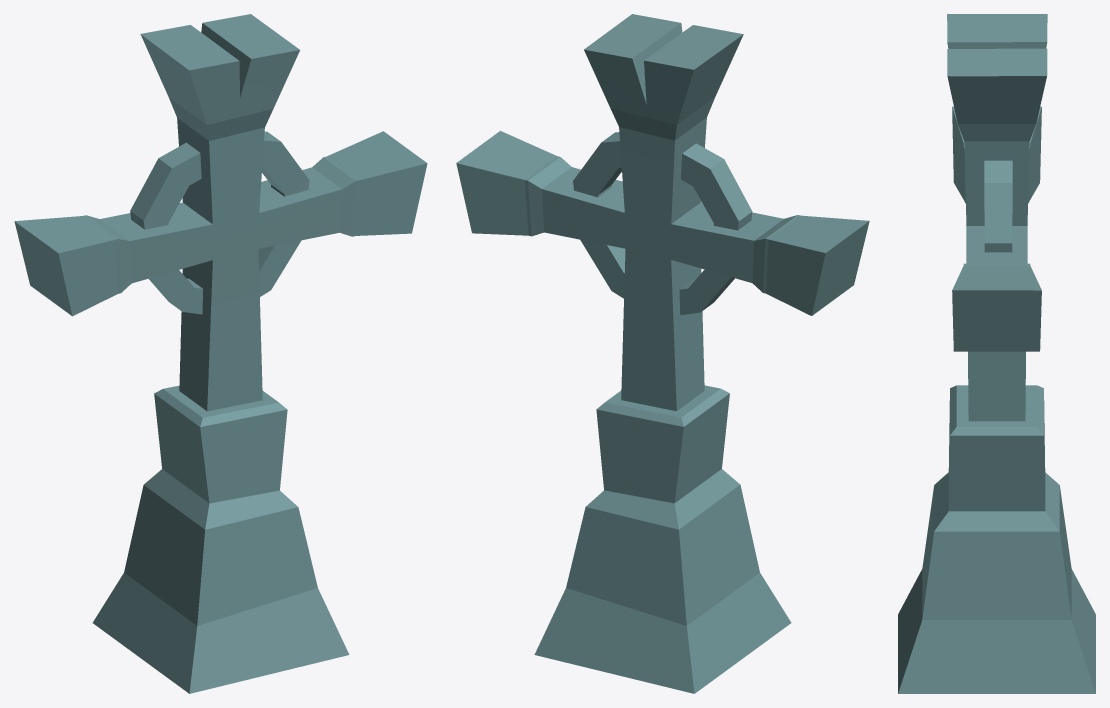
Rendered from Cementery_Tombstone3.fbx.
3 views of the same model, side by side, from view 1: azimuth 30°, elevation 25°; view 2: azimuth 150°, elevation 25°; view 3: azimuth 270°, elevation 25° (orthographic).
Visible parts, largest first — view 1: Cross_019; view 2: Cross_019; view 3: Cross_019.
Boxes of the visible parts, <box> form: Cross_019: <box>14,14,427,693</box>; Cross_019: <box>456,14,869,693</box>; Cross_019: <box>898,14,1095,693</box>.
Bounding box in the file's own units: 51.06 × 79.37 × 23.24.
